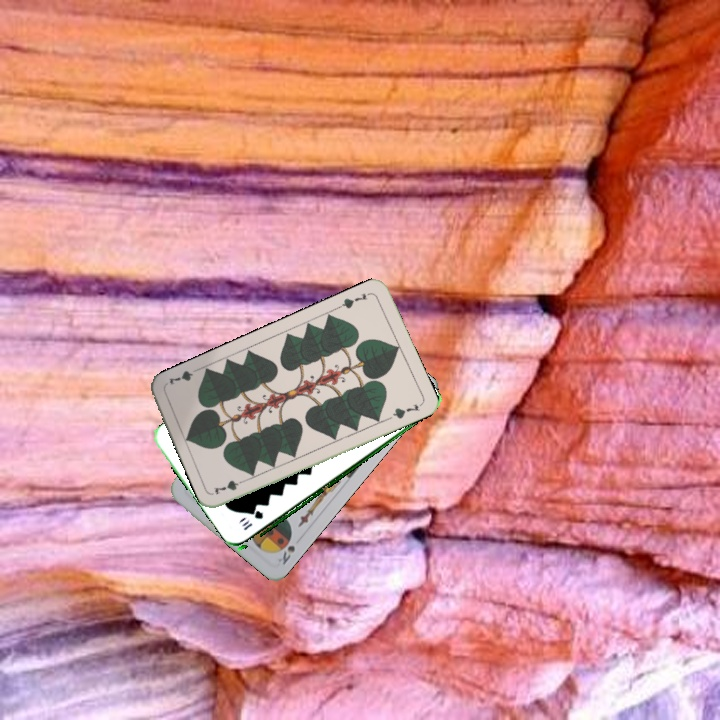G10: (238, 508, 266, 533)
G7: (335, 288, 374, 311), (210, 475, 250, 497)
SK: (274, 541, 298, 567)
